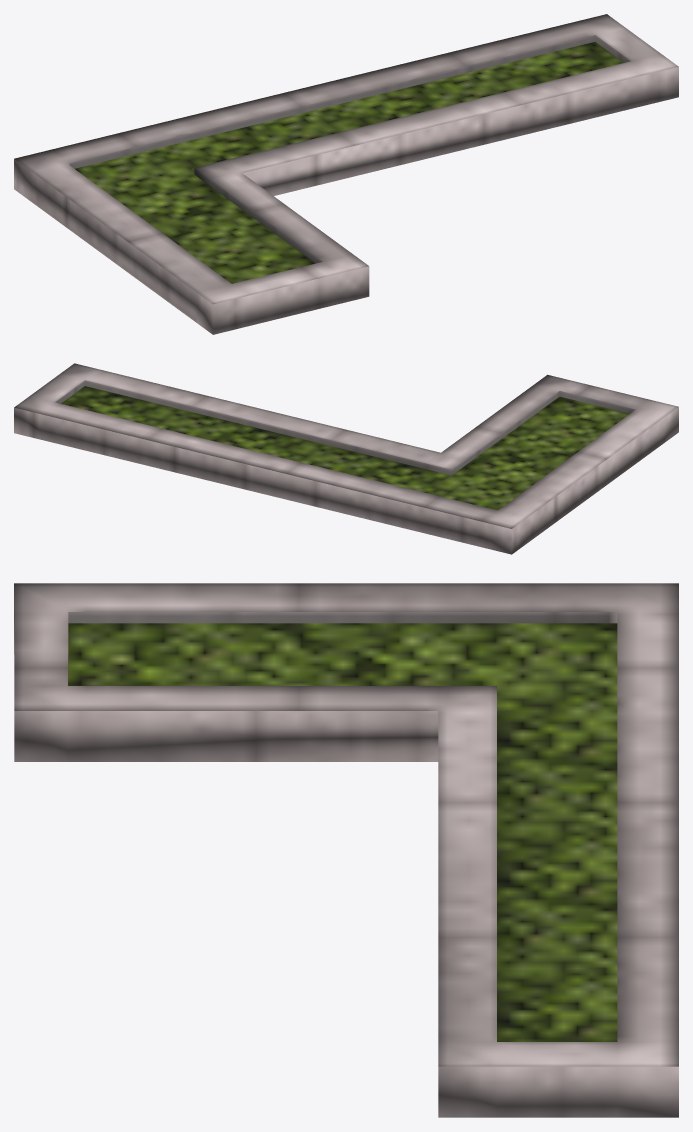
File: Ambi2.fbx
3 renders of one model, top to bottom at view 1: azimuth 30°, elevation 25°; view 2: azimuth 150°, elevation 25°; view 3: azimuth 270°, elevation 25°, orthographic. The views are drawn at different scales.
Parts seen in each view (by area): view 1: polySurface6378.001; view 2: polySurface6378.001; view 3: polySurface6378.001.
Part boxes in pixels (<box>): polySurface6378.001: <box>14,14,678,334</box>; polySurface6378.001: <box>14,363,678,554</box>; polySurface6378.001: <box>14,583,678,1117</box>.
Size of the model in its own units: 5.08 by 0.25 by 2.95.
